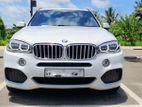car: (4, 7, 124, 95)
